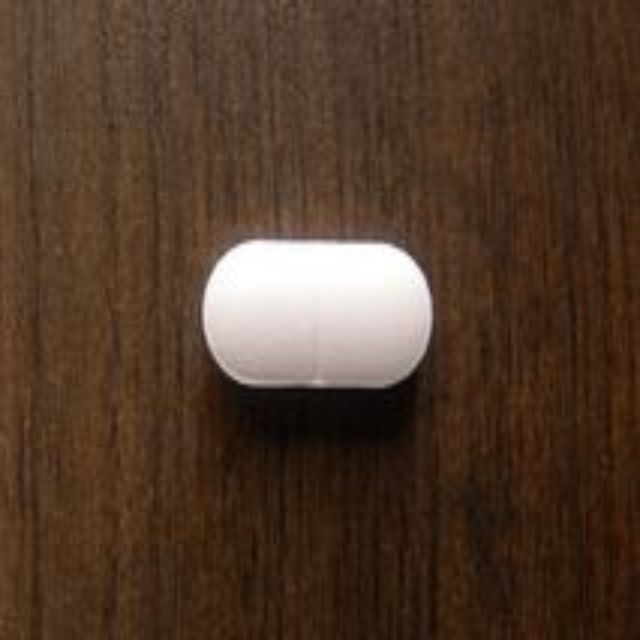pill: (66, 59, 145, 100)
